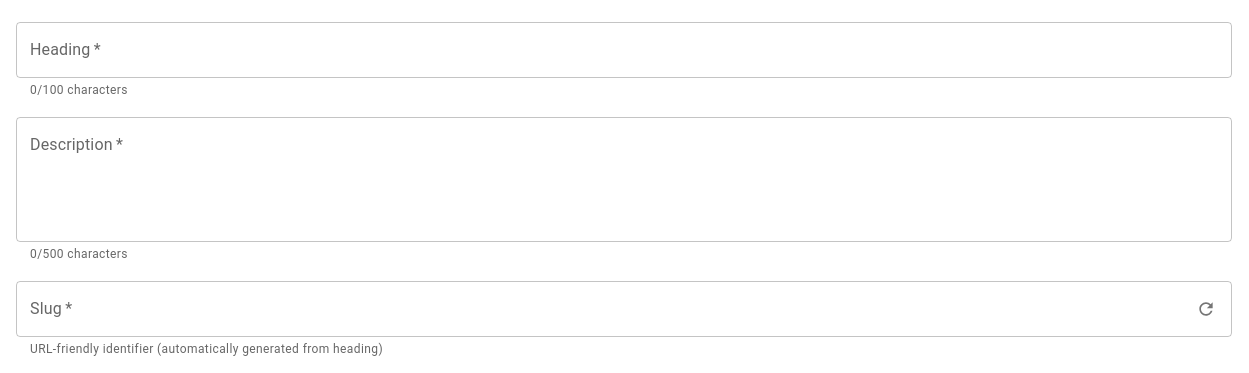
Test case: User Interactions › should reset slug to auto-generate when refresh button is clicked
The width and height of the screenshot is (1249, 373).
// Type heading
Type "Original Heading" into the field with placeholder "Enter article heading" at x=624, y=50, box x1=16 y1=22 x2=1232 y2=78
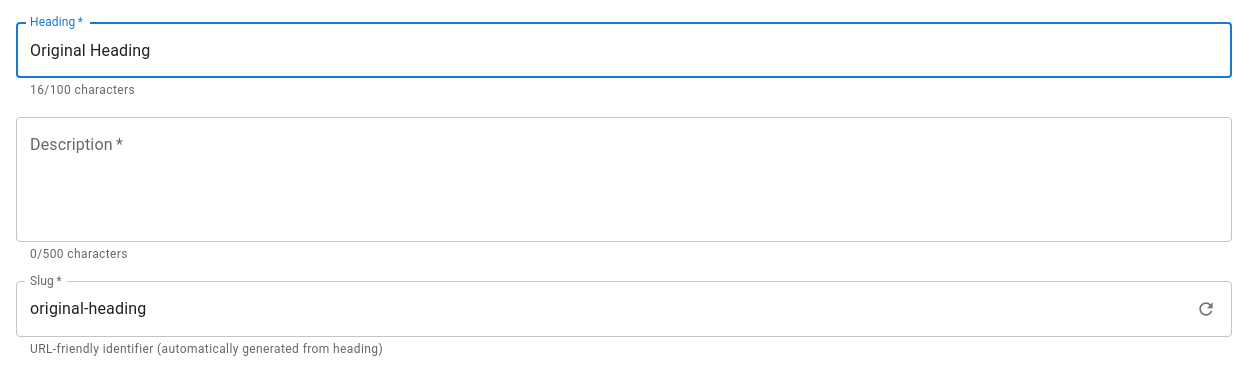
Result: the field with placeholder "url-friendly-slug" holds "original-heading"
// Manually edit slug
Replace the text in the field with placeholder "url-friendly-slug" with "manual-slug" at x=604, y=309, box x1=16 y1=281 x2=1191 y2=337
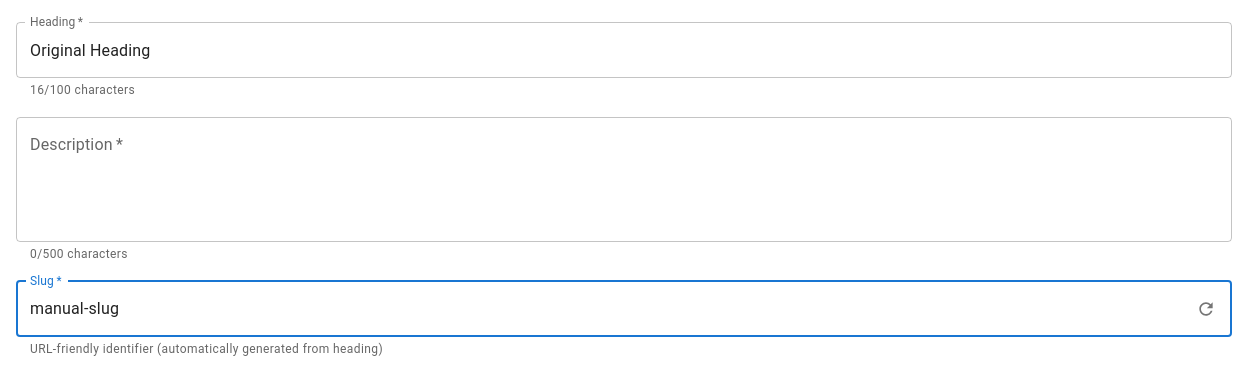
// Click refresh button
Click the button named "reset to auto-generate from heading" at x=1206, y=309, box x1=1191 y1=294 x2=1221 y2=324
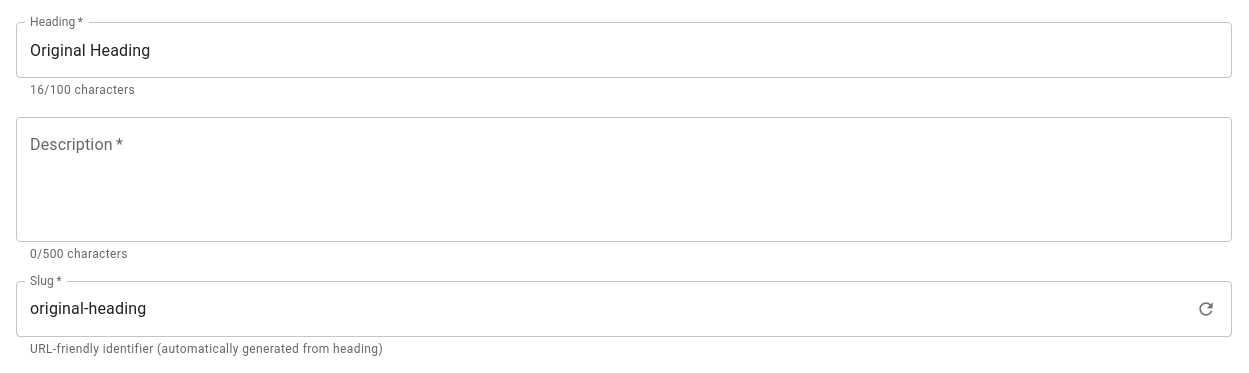
Result: the field with placeholder "url-friendly-slug" holds "original-heading" at x1=16 y1=281 x2=1191 y2=337
// Now if we change heading, slug should auto-generate again
Replace the text in the field with placeholder "Enter article heading" with "Updated Heading" at x=624, y=50, box x1=16 y1=22 x2=1232 y2=78
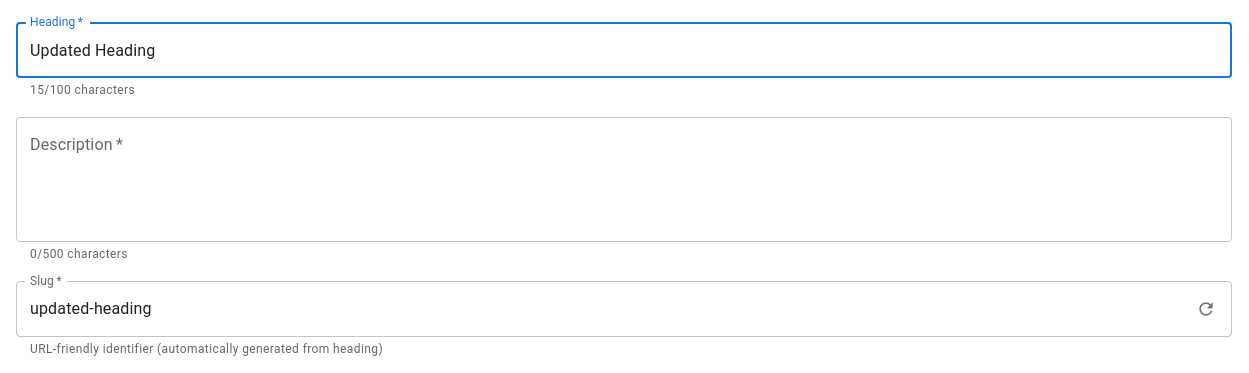
Result: the field with placeholder "url-friendly-slug" holds "updated-heading" at x1=16 y1=281 x2=1191 y2=337
